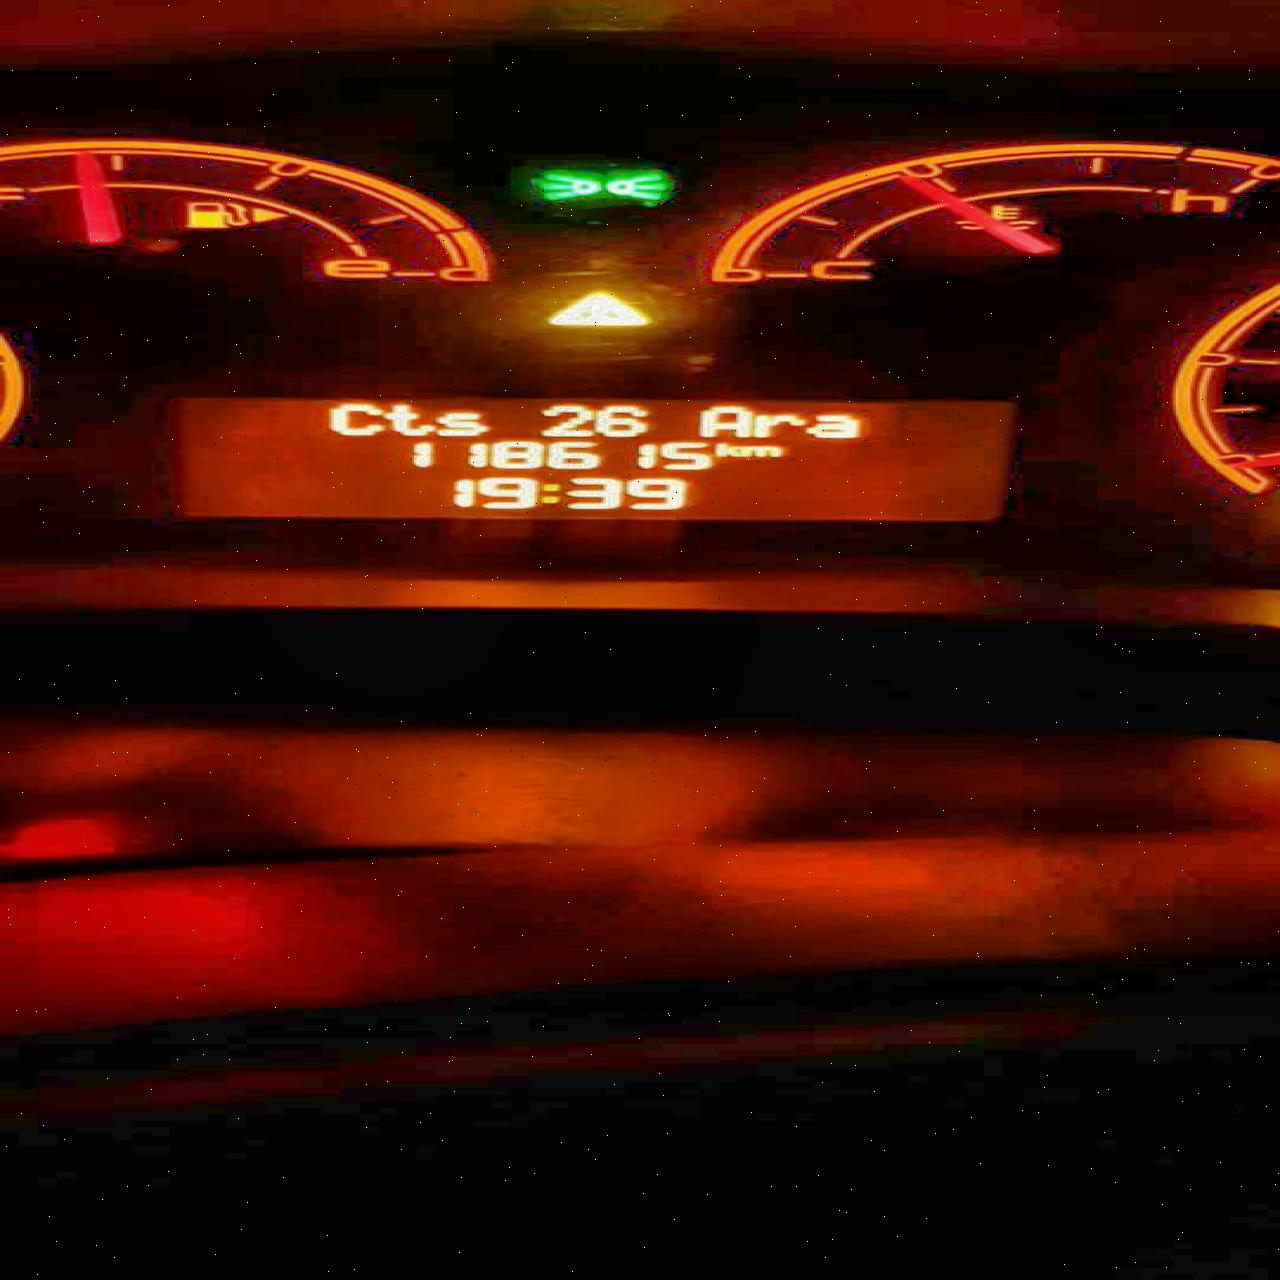1: (447, 476, 474, 509), (409, 440, 433, 470), (629, 440, 653, 469), (464, 441, 488, 469)
2: (537, 403, 595, 437)
3: (565, 476, 620, 511)
5: (658, 440, 710, 470)
6: (597, 403, 648, 437), (546, 440, 601, 469)
8: (492, 438, 542, 468)
9: (627, 476, 686, 510), (476, 476, 535, 509)
X: (321, 401, 386, 436), (696, 404, 750, 436), (381, 403, 433, 436), (436, 409, 488, 436), (811, 411, 859, 437), (753, 413, 804, 436), (741, 443, 781, 457), (539, 481, 560, 505), (713, 442, 741, 457)
odometer: (156, 395, 1020, 518)
